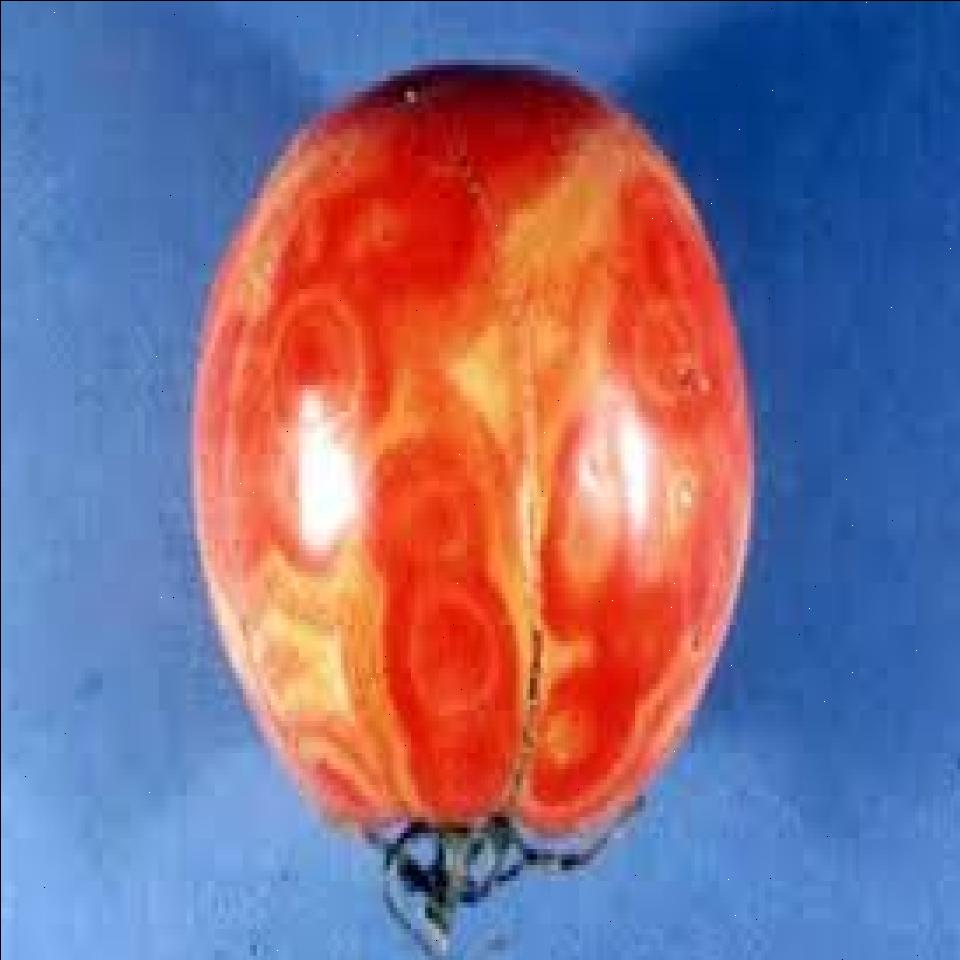Spotted wilt Virus: (189, 69, 753, 853)
